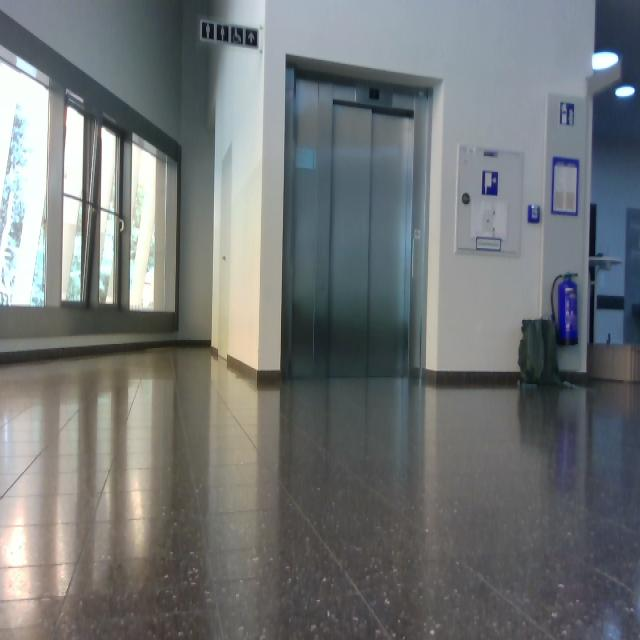door: (282, 68, 433, 381)
fire extinguisher: (551, 272, 579, 346)
light bulb: (592, 50, 619, 72), (615, 85, 636, 98)
tiled floor: (2, 344, 639, 638)
window: (1, 43, 181, 335), (1, 52, 50, 308)
